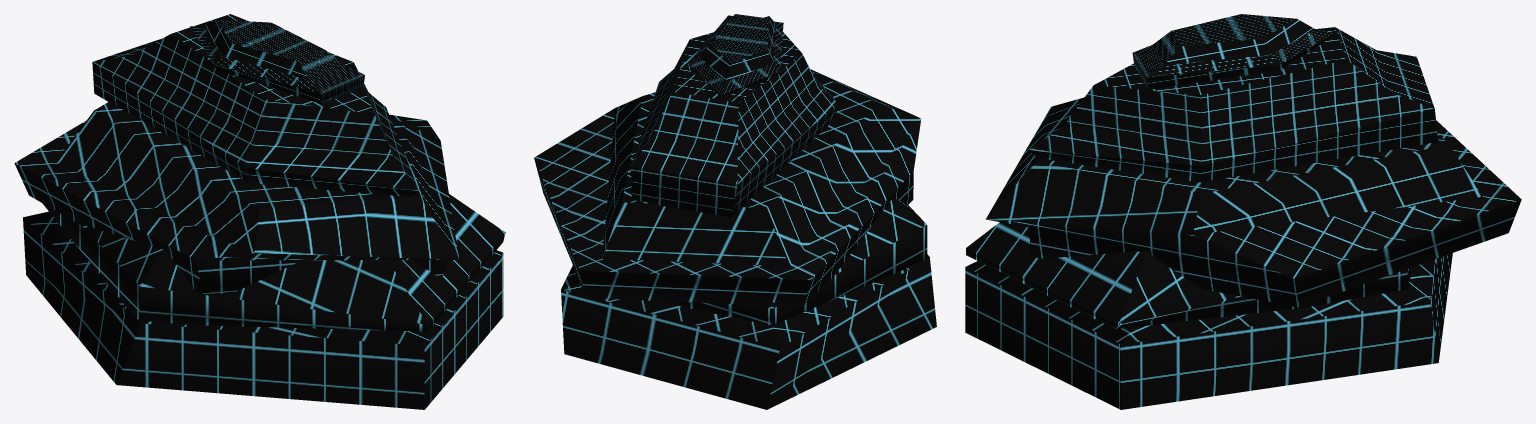
Rendered from mountains.fbx.
3 renders of one model, left to right at view 1: azimuth 30°, elevation 25°; view 2: azimuth 150°, elevation 25°; view 3: azimuth 270°, elevation 25°, orthographic. The views are drawn at different scales.
Visible parts, largest first — view 1: polySurface1, polySurface3, polySurface2, polySurface4; view 2: polySurface3, polySurface1, polySurface2, polySurface4; view 3: polySurface3, polySurface1, polySurface2, polySurface4.
Boxes of the visible parts, box(x1,y1,x2,y2) form: polySurface1: box(23, 194, 505, 409); polySurface3: box(14, 101, 458, 295); polySurface2: box(92, 14, 418, 197); polySurface4: box(190, 19, 364, 104); polySurface3: box(534, 69, 921, 306); polySurface1: box(561, 198, 936, 409); polySurface2: box(631, 16, 839, 217); polySurface4: box(688, 14, 783, 96); polySurface3: box(985, 97, 1521, 307); polySurface1: box(965, 222, 1452, 409); polySurface2: box(1029, 27, 1438, 182); polySurface4: box(1132, 14, 1333, 89).
Bounding box in the file's own units: 21.43 × 15.73 × 27.32.
1 material, 1 textured.
